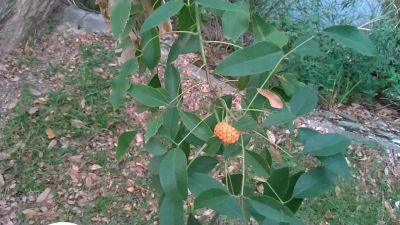eggs: (214, 118, 240, 143)
